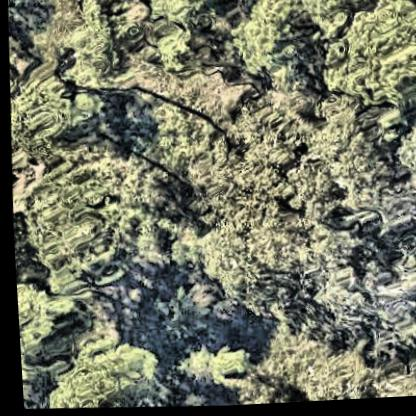tree-top: (19, 150, 175, 309), (183, 188, 321, 328), (290, 109, 400, 232), (305, 252, 416, 355), (314, 0, 416, 112), (253, 323, 368, 406), (5, 63, 98, 163), (40, 332, 160, 409), (218, 0, 311, 83), (72, 0, 139, 90), (13, 279, 64, 377), (172, 338, 248, 395), (382, 119, 416, 214), (362, 347, 416, 402)
